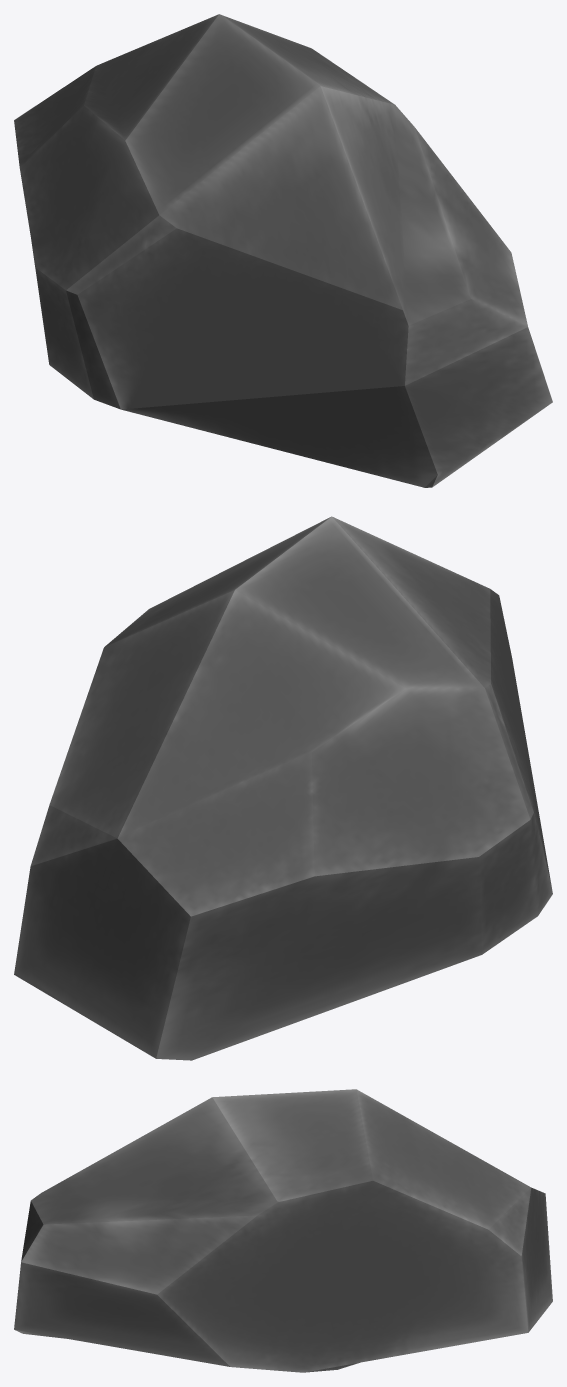
File: stone 1.fbx
3 renders of one model, top to bottom at view 1: azimuth 30°, elevation 25°; view 2: azimuth 150°, elevation 25°; view 3: azimuth 270°, elevation 25°, orthographic. The views are drawn at different scales.
Visible parts, largest first — view 1: Cube; view 2: Cube; view 3: Cube.
Part boxes in pixels (x1,y1,x2,y2): Cube: (14,14,552,487); Cube: (14,516,552,1060); Cube: (14,1089,552,1372).
Bounding box in the file's own units: 580 × 537 × 944.
Materials: 1 (1 with a texture image).
